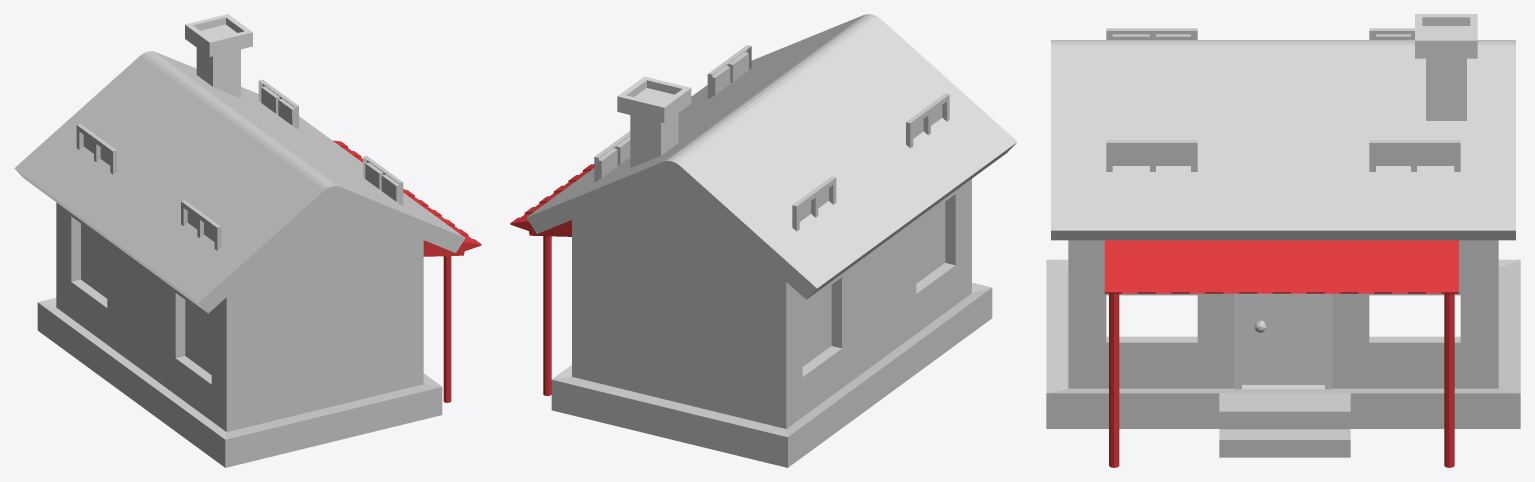
File: house.fbx
3 renders of one model, left to right at view 1: azimuth 30°, elevation 25°; view 2: azimuth 150°, elevation 25°; view 3: azimuth 270°, elevation 25°, orthographic. The views are drawn at different scales.
Visible parts, largest first — view 1: Cube, Roof, Windows, Chimney, Roof 2; view 2: Cube, Roof, Windows, Chimney, Roof 2; view 3: Roof, Cube, Roof 2, Door, Windows, Chimney.
Part boxes in pixels (left/top/right/bottom): Cube: left=37, top=202, right=442, bottom=467; Roof: left=14, top=51, right=465, bottom=313; Windows: left=76, top=79, right=403, bottom=250; Chimney: left=185, top=14, right=252, bottom=97; Roof 2: left=333, top=140, right=481, bottom=402; Cube: left=551, top=179, right=992, bottom=467; Roof: left=526, top=14, right=1017, bottom=299; Windows: left=594, top=45, right=949, bottom=231; Chimney: left=617, top=76, right=691, bottom=167; Roof 2: left=510, top=164, right=594, bottom=395; Roof: left=1051, top=40, right=1515, bottom=240; Cube: left=1046, top=240, right=1520, bottom=457; Roof 2: left=1104, top=240, right=1458, bottom=467; Door: left=1234, top=293, right=1332, bottom=389; Windows: left=1106, top=28, right=1460, bottom=171; Chimney: left=1415, top=14, right=1477, bottom=120.
Size of the model in its own units: 619 by 583 by 661.
